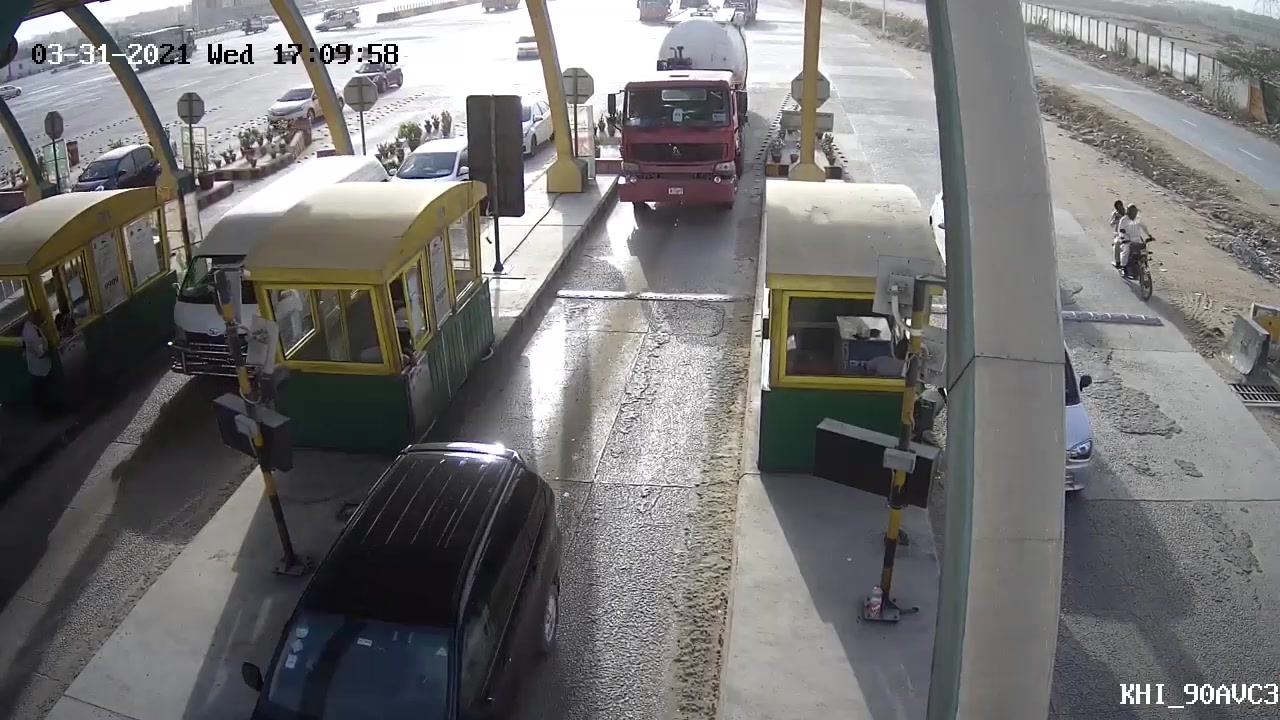F6: (599, 2, 759, 244)
